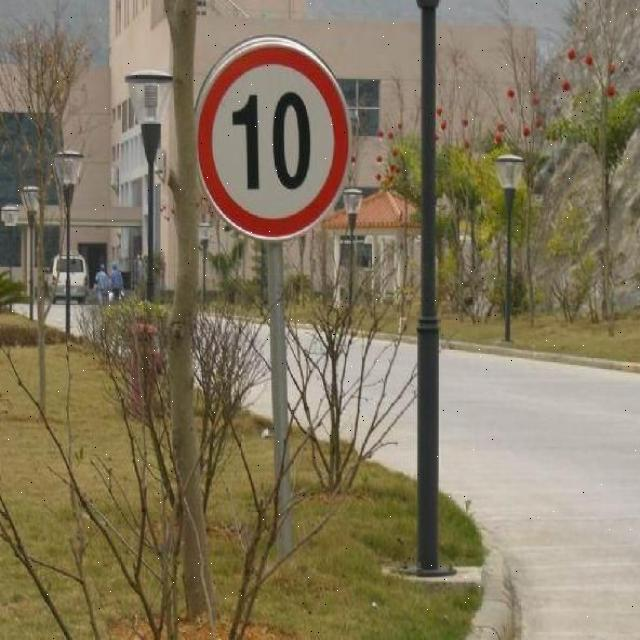speed limit 10: (193, 38, 351, 242)
